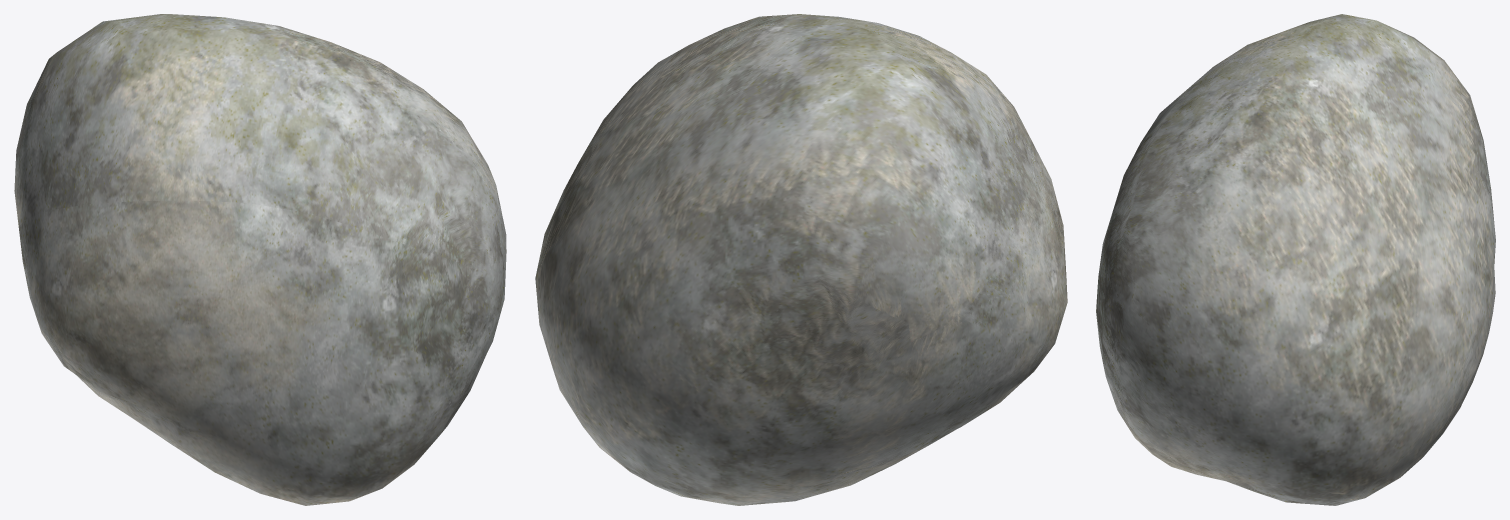
The model's file is rock1.FBX.
3 renders of one model, left to right at view 1: azimuth 30°, elevation 25°; view 2: azimuth 150°, elevation 25°; view 3: azimuth 270°, elevation 25°, orthographic. The views are drawn at different scales.
Parts seen in each view (by area): view 1: rock1; view 2: rock1; view 3: rock1.
Boxes of the visible parts, left/top/right/bottom form: rock1: left=14, top=14, right=506, bottom=505; rock1: left=535, top=14, right=1067, bottom=505; rock1: left=1096, top=14, right=1495, bottom=505.
Size of the model in its own units: 75.8 by 74.58 by 66.03.
